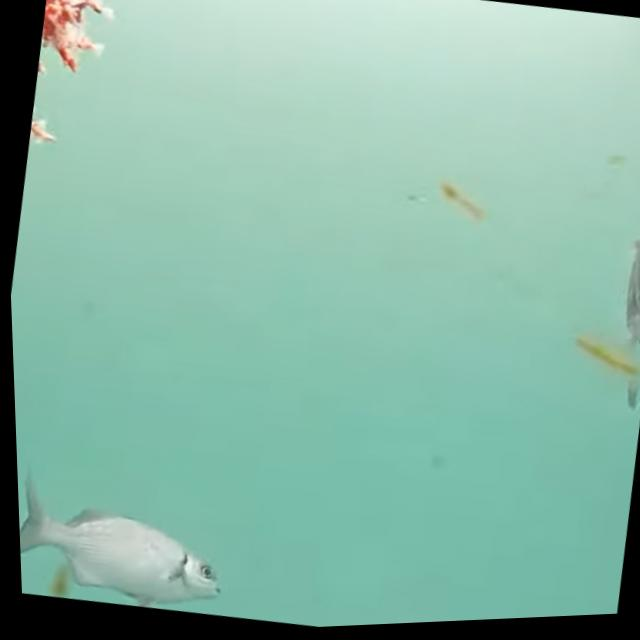fish: (13, 452, 238, 625), (584, 175, 640, 360)
